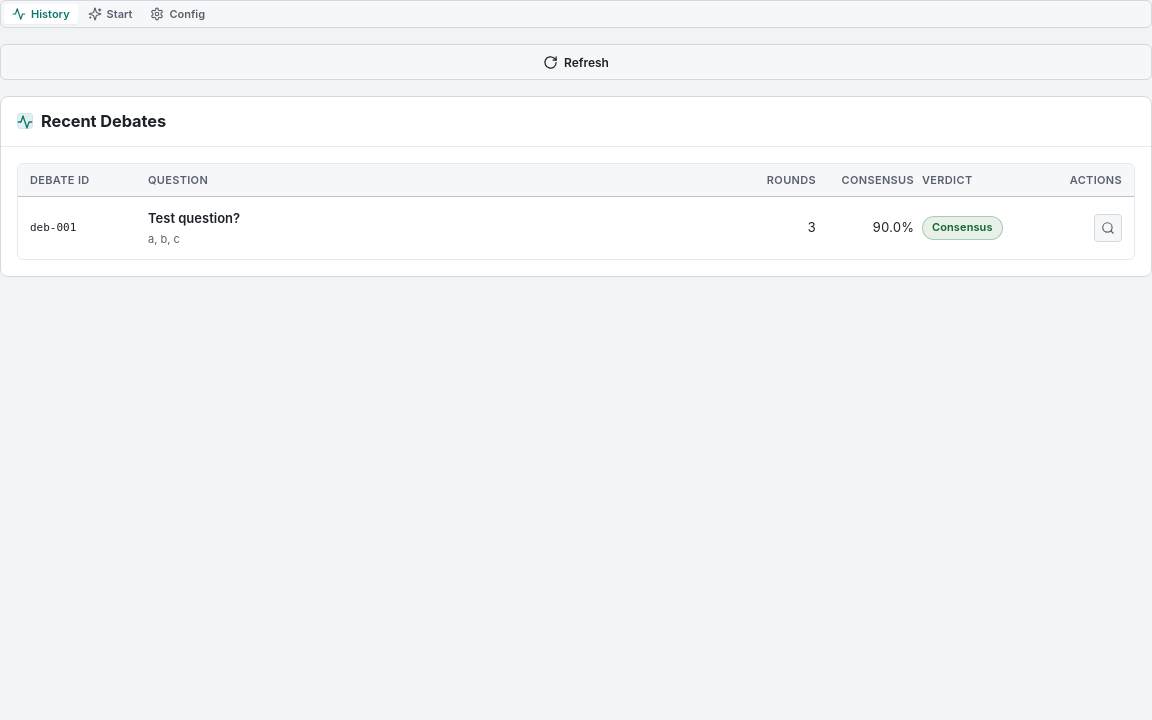
Debate.vue › opens verdict detail drawer when details button clicked
Step 1. Click the button with class "icon-btn" → click(1108, 228), box top-left (1094, 214), bottom-right (1122, 242)
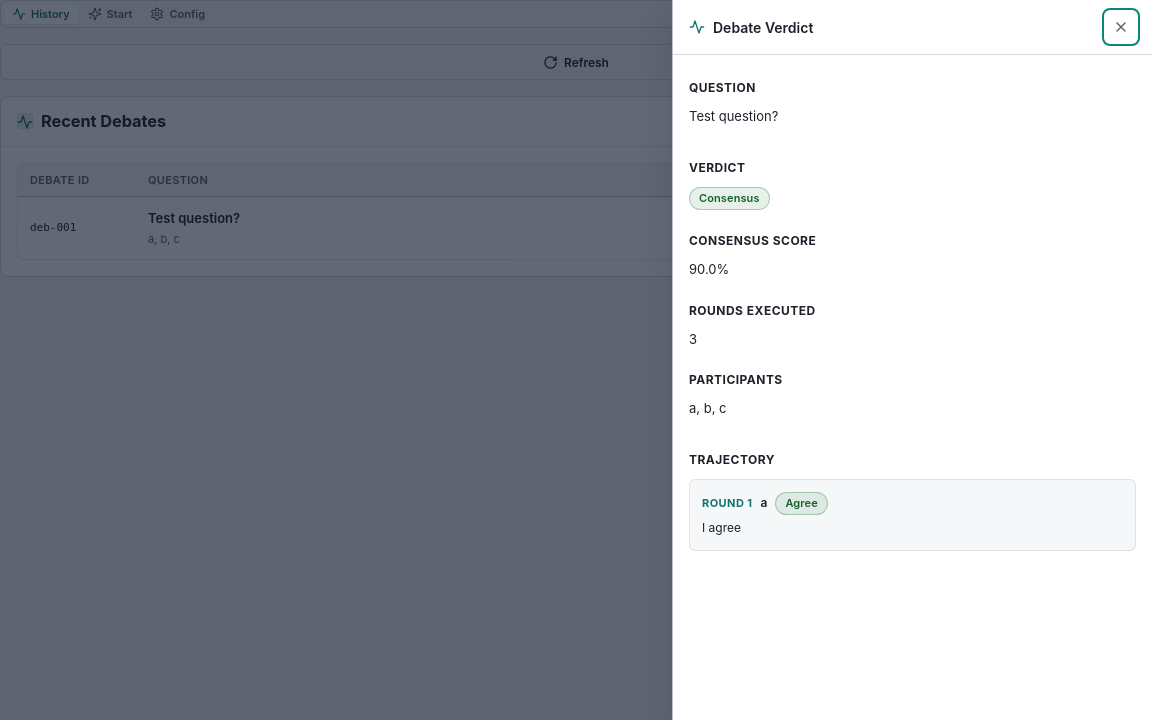
Expected: the element with class "detail-drawer" is shown
